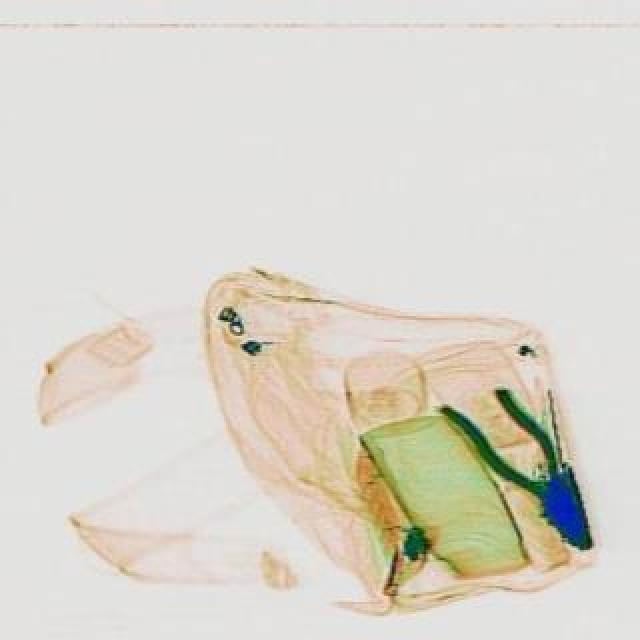wrench: (430, 370, 614, 568)
